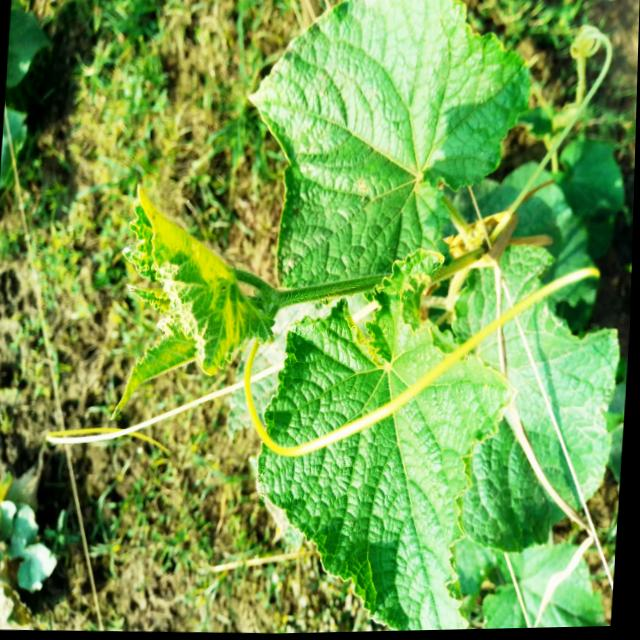Fresh-Leaf: (254, 245, 518, 631), (248, 0, 533, 291)
